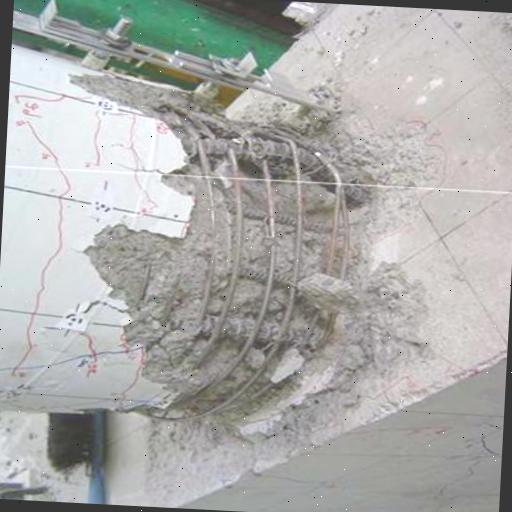spalling: (67, 72, 368, 418)
